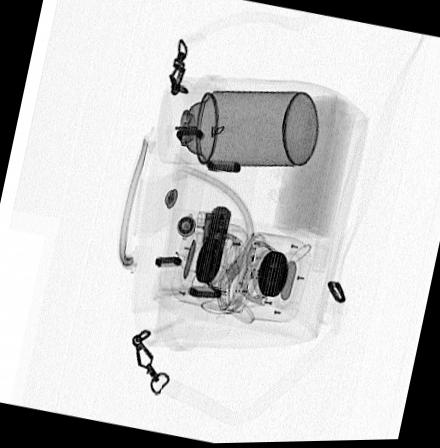Sprayer: (154, 89, 321, 168)
